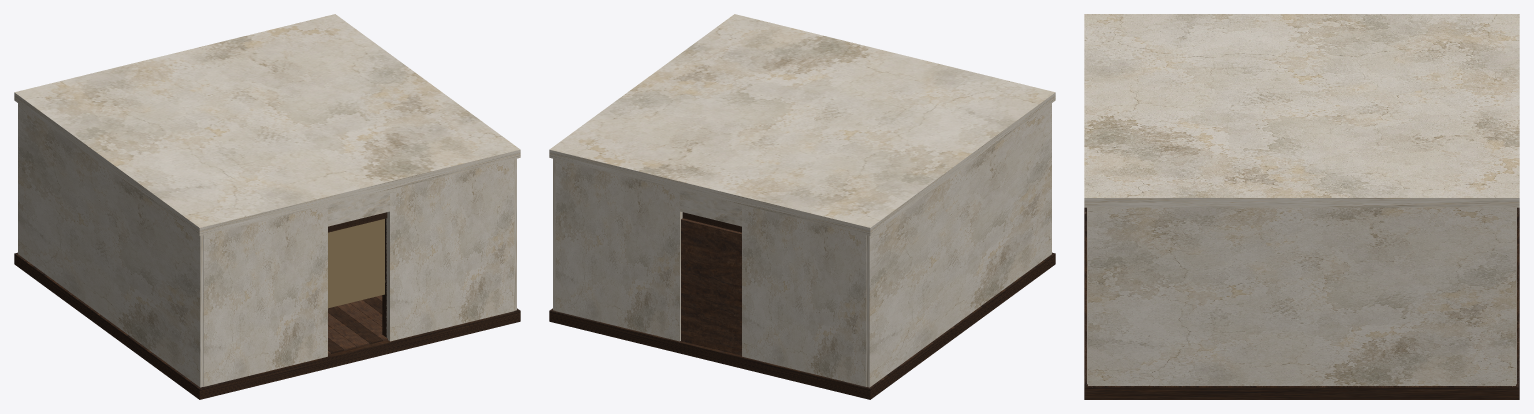
Rendered from elevator.glb.
3 views of the same model, side by side, from view 1: azimuth 30°, elevation 25°; view 2: azimuth 150°, elevation 25°; view 3: azimuth 270°, elevation 25° (orthographic). The views are drawn at different scales.
Visible parts, largest first — view 1: ceiling, part_72, part_111, part_108, floor, mirror_frame, part_114, part_41, part_44, part_38, part_85; view 2: ceiling, part_72, part_101, part_98, exit_door, floor, part_104, part_85; view 3: ceiling, part_85, floor.
Part boxes in pixels (x1,y1,x2,y2): ceiling: [14, 14, 520, 235]; part_72: [18, 103, 203, 387]; part_111: [386, 159, 514, 341]; part_108: [203, 205, 327, 386]; floor: [14, 252, 520, 399]; mirror_frame: [328, 219, 384, 308]; part_114: [328, 189, 389, 226]; part_41: [328, 306, 382, 344]; part_44: [337, 303, 387, 341]; part_38: [328, 313, 369, 347]; part_85: [514, 158, 516, 310]; ceiling: [549, 14, 1055, 235]; part_72: [866, 103, 1051, 387]; part_101: [555, 159, 682, 341]; part_98: [742, 205, 866, 386]; exit_door: [681, 218, 741, 355]; floor: [549, 252, 1055, 399]; part_104: [680, 189, 741, 226]; part_85: [553, 158, 555, 310]; ceiling: [1084, 14, 1519, 207]; part_85: [1088, 207, 1515, 385]; floor: [1084, 207, 1519, 399].
Bounding box in the file's own units: 6.2 × 3.18 × 6.2.
7 materials, 4 textured.
